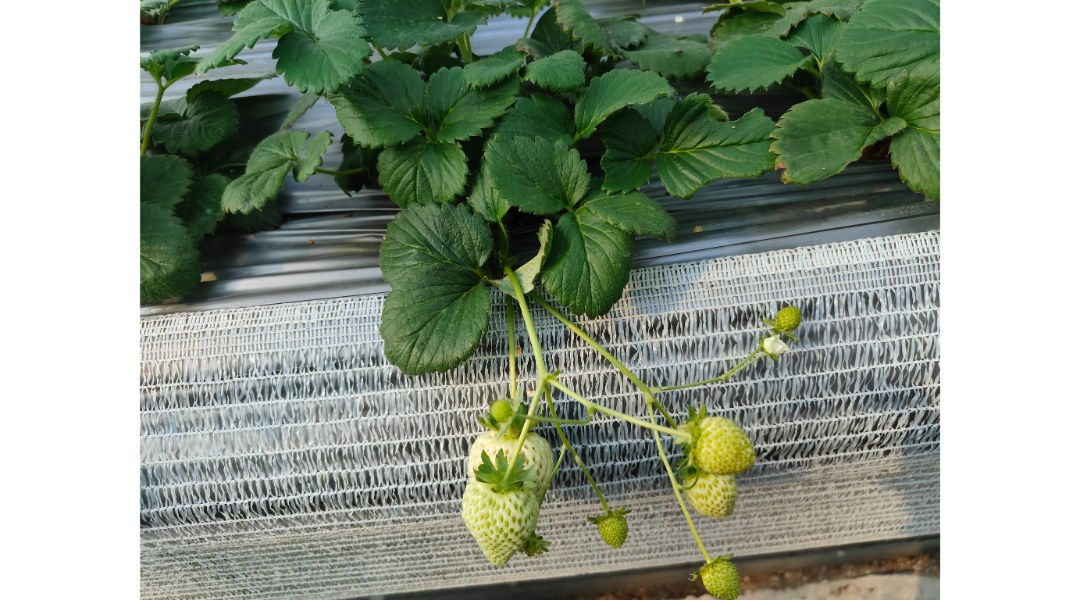berry: (450, 396, 556, 504), (452, 471, 550, 563), (673, 409, 764, 475), (688, 448, 748, 523), (581, 500, 647, 553), (691, 547, 749, 600), (759, 303, 820, 344)
strain: (653, 432, 718, 560), (501, 260, 552, 377), (558, 303, 642, 370), (562, 382, 641, 439), (671, 356, 752, 398), (502, 299, 518, 398)
